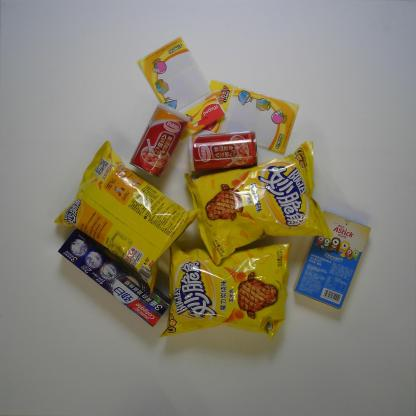Canned Food: (129, 103, 191, 181), (186, 128, 260, 175)
Dessert: (292, 208, 371, 310)
Personal Hygiene: (55, 228, 169, 328)
Puffed Food: (53, 139, 203, 294), (184, 140, 334, 267), (156, 238, 292, 341)
Stationery: (135, 33, 226, 143), (194, 80, 302, 155)
